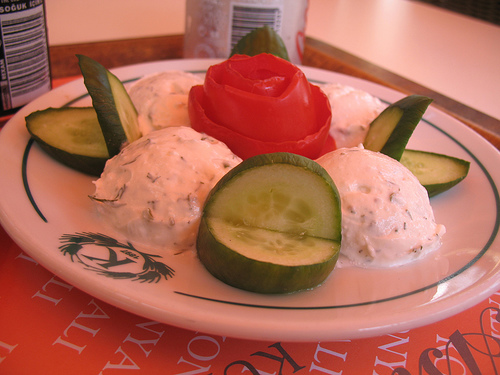cucumber: (193, 148, 346, 304), (26, 52, 142, 171), (361, 94, 470, 199), (227, 25, 294, 67)
